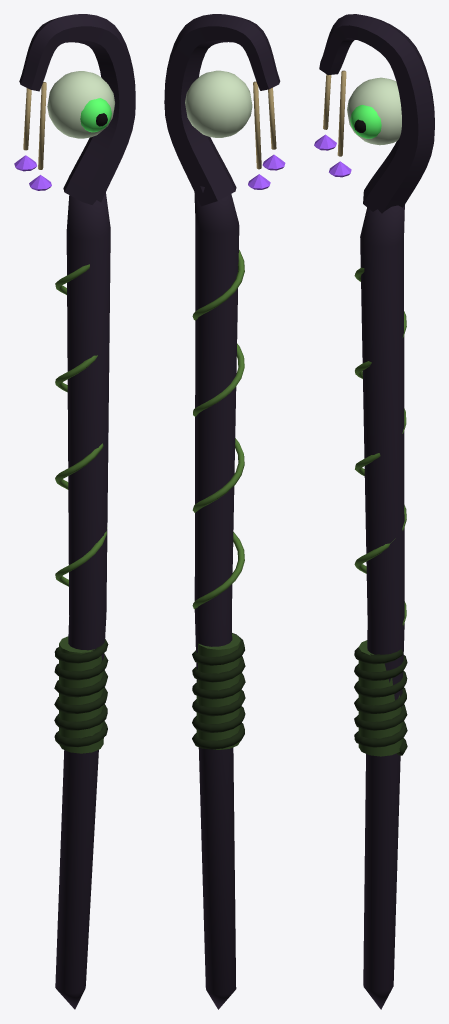
File: staff_hex.fbx
The picture shows the model from 3 angles, left to right: view 1: azimuth 30°, elevation 25°; view 2: azimuth 150°, elevation 25°; view 3: azimuth 330°, elevation 25°; orthographic projection.
Visible parts, largest first — view 1: staff_hex; view 2: staff_hex; view 3: staff_hex.
Part boxes in pixels (x1,y1,x2,y2): staff_hex: [14, 14, 135, 1009]; staff_hex: [164, 14, 285, 1009]; staff_hex: [314, 14, 434, 1009].
Size of the model in its own units: 0.1625 by 1.29 by 0.094.
